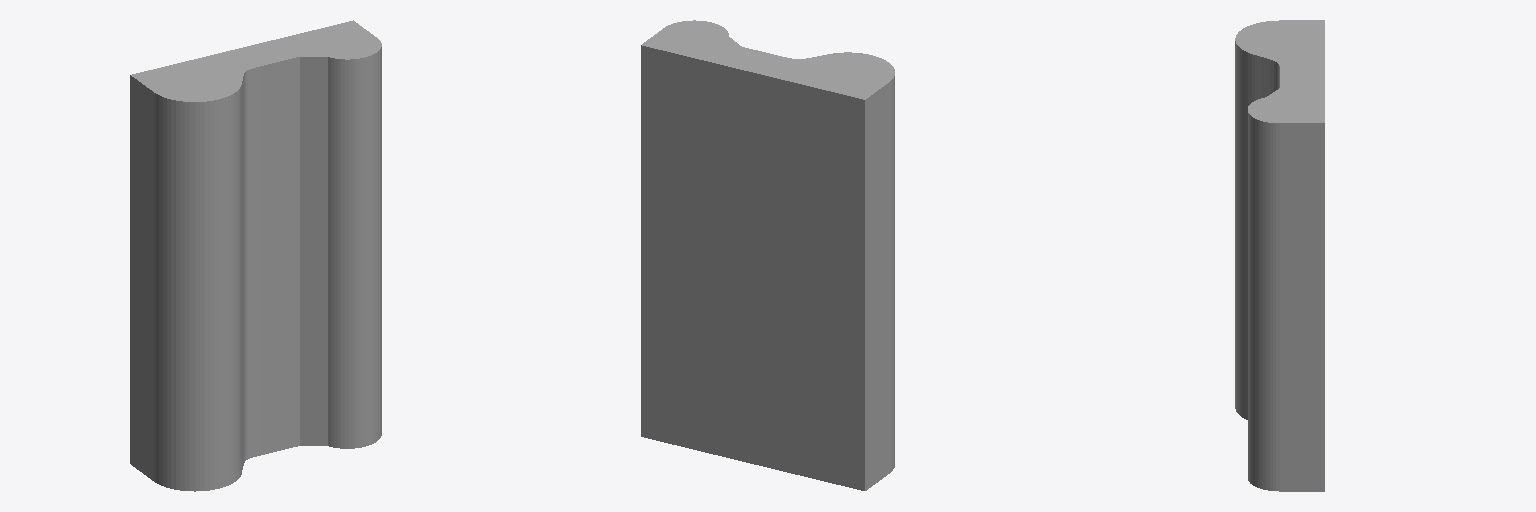
The robot description file, URDF, robot "obstacle":
<robot name="obstacle">
    <static>true</static>
    <link name="link1">
        <inertial>
            <mass value="136.866"/>
            <!-- <mass value="1368.66"/> -->
            <origin rpy="0 0 0" xyz="0.015082 0.012355 0.25"/>
            <inertia ixx="2.951e6" ixy="-4.486e4" ixz="-4.249e-1" iyy="3.994e6" iyz="-7.005e-1" izz="1.243e6"/>
        </inertial>
        <visual>
            <geometry>
                <mesh filename="package://stack_of_task_space_controllers_kuka_lwr/resources/obstacle.stl" scale="0.002 0.002 0.002"/>
            </geometry>
            <material name="LightGrey">
                <color rgba="0.7 0.7 0.7 1.0"/>
            </material>
        </visual>
        <collision>
            <geometry>
                <mesh filename="package://stack_of_task_space_controllers_kuka_lwr/resources/obstacle.stl" scale="0.002 0.002 0.002"/>
            </geometry>
            <material name="LightGrey">
                <color rgba="0.7 0.7 0.7 1.0"/>
            </material>
        </collision>
    </link>
    <gazebo reference="link1">
        <mu1>100.0</mu1>
        <mu2>50.0</mu2>
        <!-- <fdir1 value="1 1 0"/> -->
        <!-- <material>Gazebo/Black</material> -->
        <!-- <turnGravityOff>false</turnGravityOff> -->
    </gazebo>
    <!-- <joint name="obstacle_joint" type="fixed">
        <pose>-0.3 0 0 0 0 1.57</pose>
        <parent>world</parent>
        <child>link1</child>
    </joint> -->
</robot>

--- What the picture shows (computed from the rendered views, not written in the file) ---
The picture shows the robot from 3 angles, left to right: view 1: azimuth 30°, elevation 25°; view 2: azimuth 150°, elevation 25°; view 3: azimuth 270°, elevation 25°; orthographic projection.
Model obstacle with 1 links and 0 joints (none), rooted at link1, posed all joints at 0.
Visible links, largest first — view 1: link1; view 2: link1; view 3: link1.
Link boxes in pixels (x1=…): link1: x1=130, y1=20, x2=381, y2=491; link1: x1=641, y1=20, x2=894, y2=490; link1: x1=1235, y1=20, x2=1324, y2=491.
Bounding box of the posed robot: 0.6 × 0.22 × 1 m (x, y, z).
1 mesh visuals loaded from 1 distinct referenced files (1 binary STL).